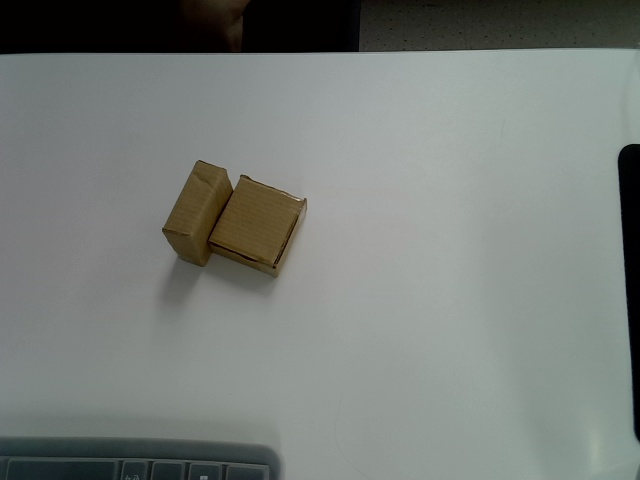normal: (208, 174, 308, 277), (162, 160, 234, 268)
